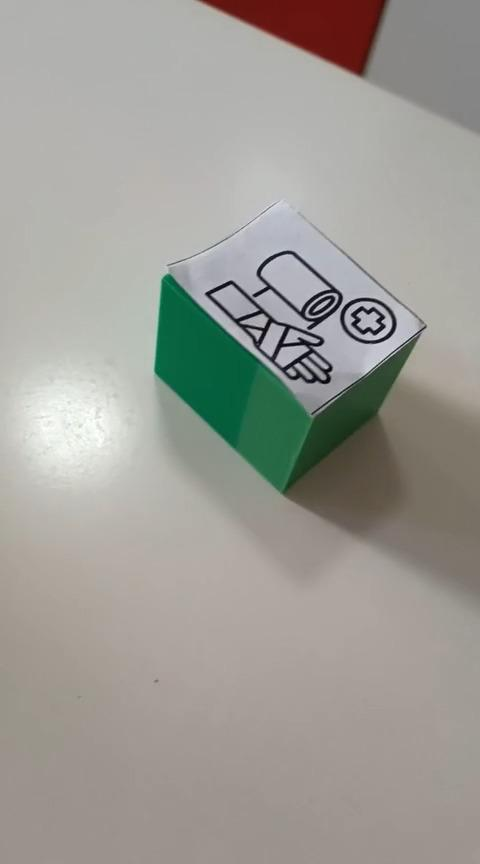Bandages: (152, 197, 427, 494)
